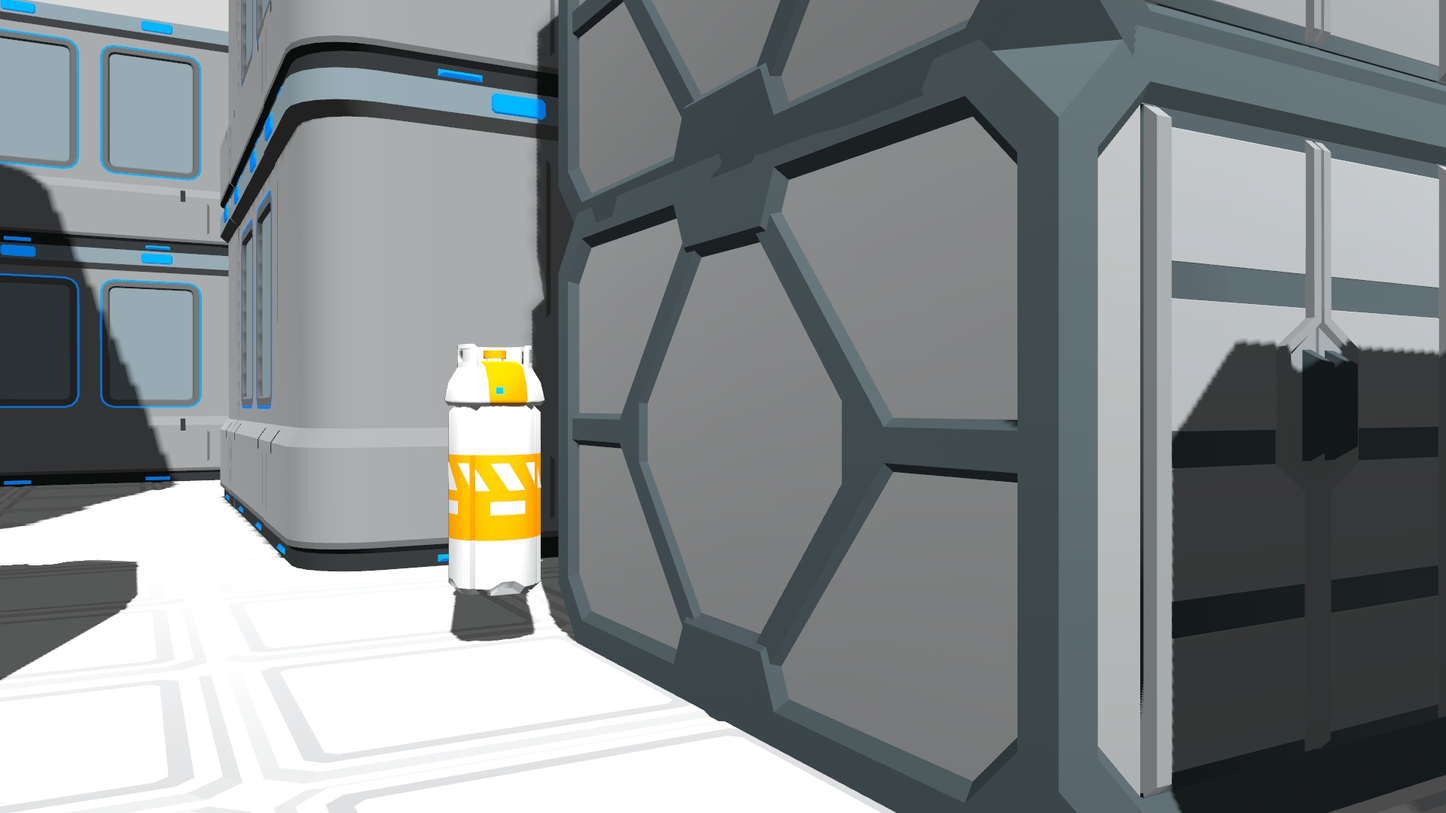yellow_barrel: (434, 336, 547, 602)
